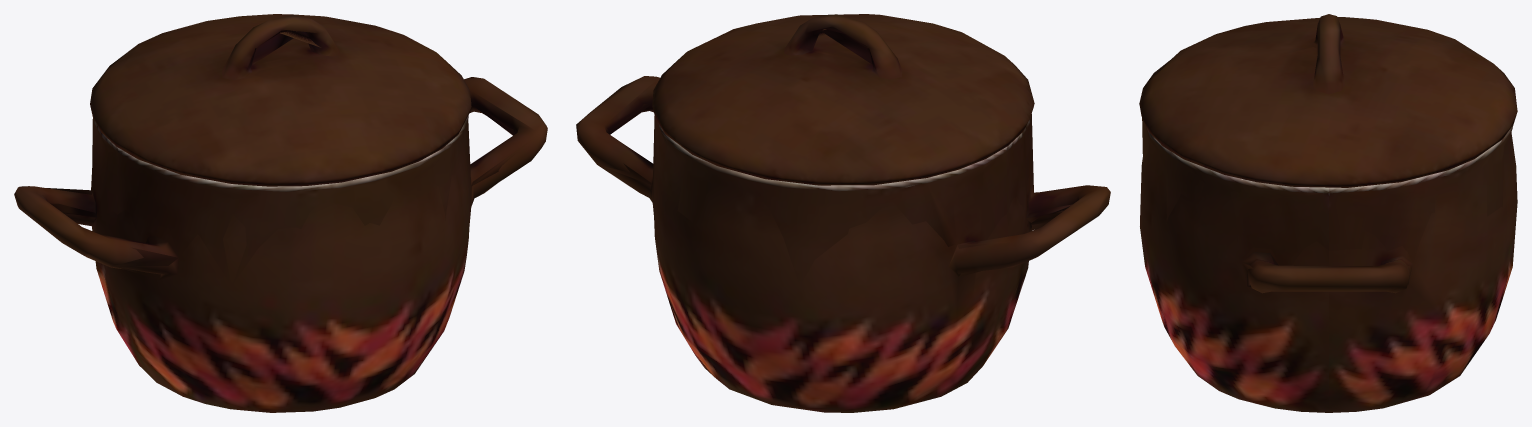
The model's file is pot_enamel_01.glb.
3 views of the same model, side by side, from view 1: azimuth 30°, elevation 25°; view 2: azimuth 150°, elevation 25°; view 3: azimuth 270°, elevation 25° (orthographic).
Visible parts, largest first — view 1: pot_enamel_01_lid, pot_enamel_01_lid_lo; view 2: pot_enamel_01_lid, pot_enamel_01_lid_lo; view 3: pot_enamel_01_lid, pot_enamel_01_lid_lo.
Boxes of the visible parts, x1=… form: pot_enamel_01_lid: x1=14, y1=14, x2=547, y2=412; pot_enamel_01_lid_lo: x1=47, y1=31, x2=538, y2=285; pot_enamel_01_lid: x1=576, y1=14, x2=1110, y2=412; pot_enamel_01_lid_lo: x1=598, y1=29, x2=1072, y2=285; pot_enamel_01_lid: x1=1139, y1=14, x2=1517, y2=412; pot_enamel_01_lid_lo: x1=1142, y1=47, x2=1504, y2=282.
Bounding box in the file's own units: 0.2627 × 0.1778 × 0.18.
Materials: 1 (1 with a texture image).
